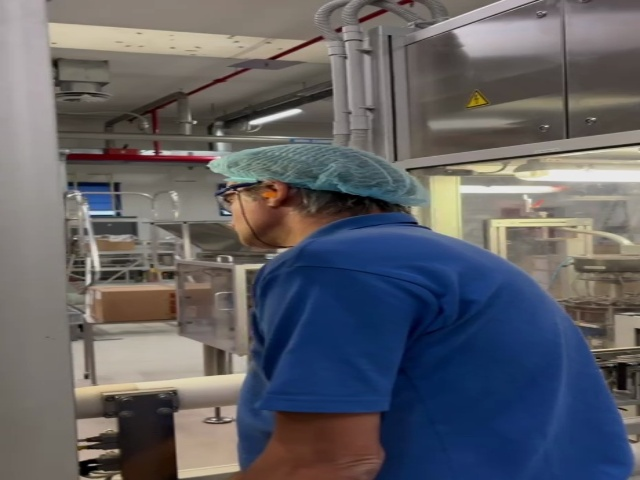Earplug: (257, 180, 291, 209)
Hairnet: (208, 143, 429, 204)
No_Helmet: (211, 141, 424, 192)
No_Vest: (260, 231, 633, 480)
Person: (204, 141, 638, 480)
Safety_Goggles: (214, 180, 265, 216)
